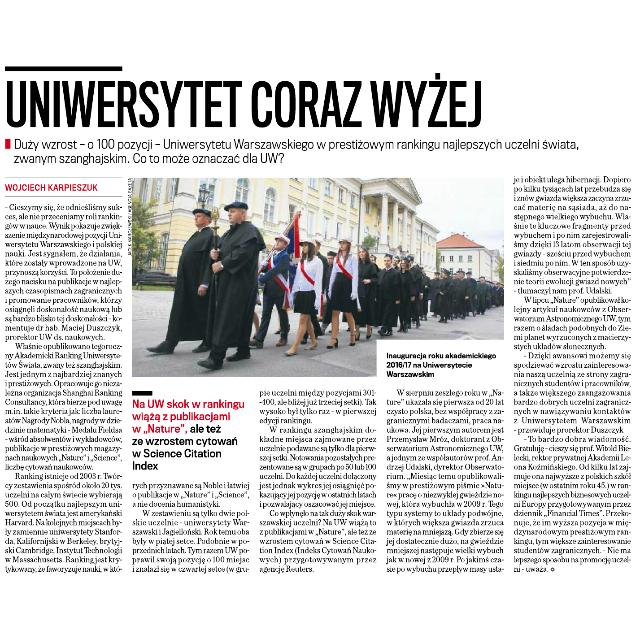author: (3, 180, 103, 196)
body: (511, 174, 637, 576), (3, 201, 127, 577), (385, 385, 509, 575), (256, 386, 380, 574), (130, 479, 254, 576), (130, 386, 250, 472)
caption: (384, 346, 501, 382)
image: (130, 176, 504, 382)
lead: (1, 136, 582, 170)
title: (2, 71, 492, 133)
